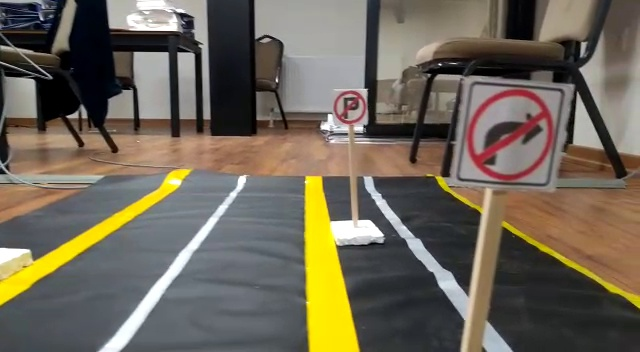park_yapilmaz: (331, 89, 365, 125)
saga_donulmez: (468, 79, 551, 186)
